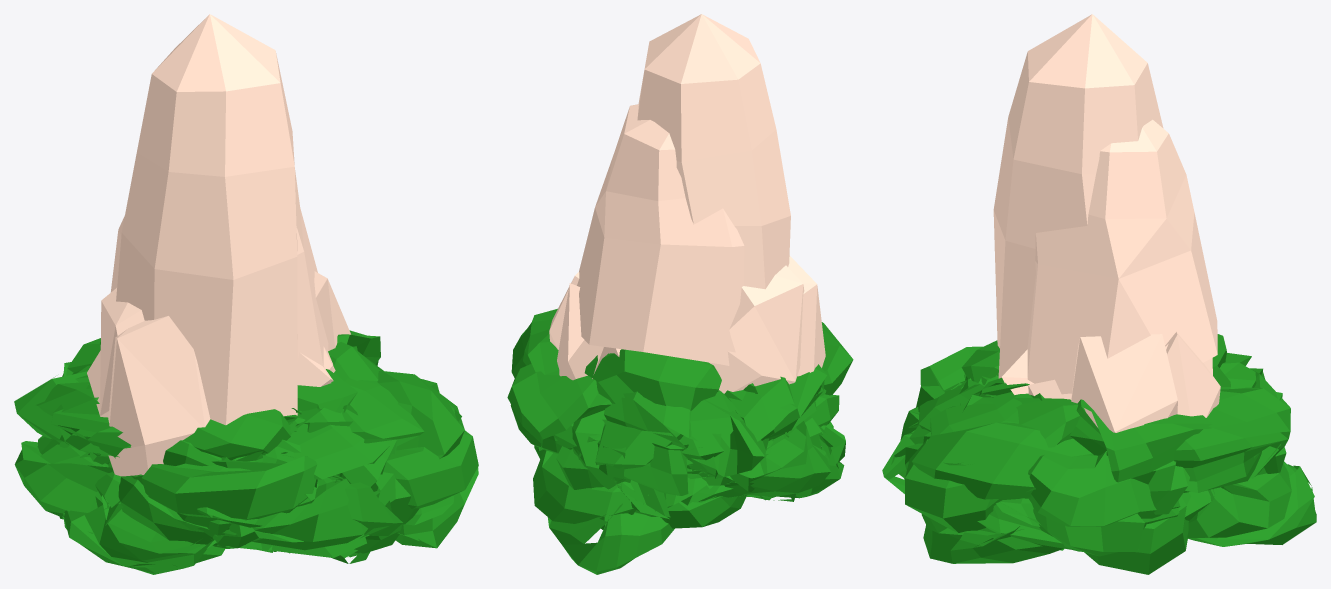
File: XRYSTAL48.gltf
3 renders of one model, left to right at view 1: azimuth 30°, elevation 25°; view 2: azimuth 150°, elevation 25°; view 3: azimuth 270°, elevation 25°, orthographic. The views are drawn at different scales.
Visible parts, largest first — view 1: Circle, Cube.001; view 2: Circle, Cube.001; view 3: Circle, Cube.001.
Part boxes in pixels (x1,y1,x2,y2): Circle: [87, 14, 350, 476]; Cube.001: [14, 330, 478, 574]; Circle: [549, 14, 825, 393]; Cube.001: [507, 308, 853, 574]; Circle: [993, 14, 1220, 432]; Cube.001: [882, 334, 1316, 574].
Size of the model in its own units: 2.84 by 3.93 by 3.
